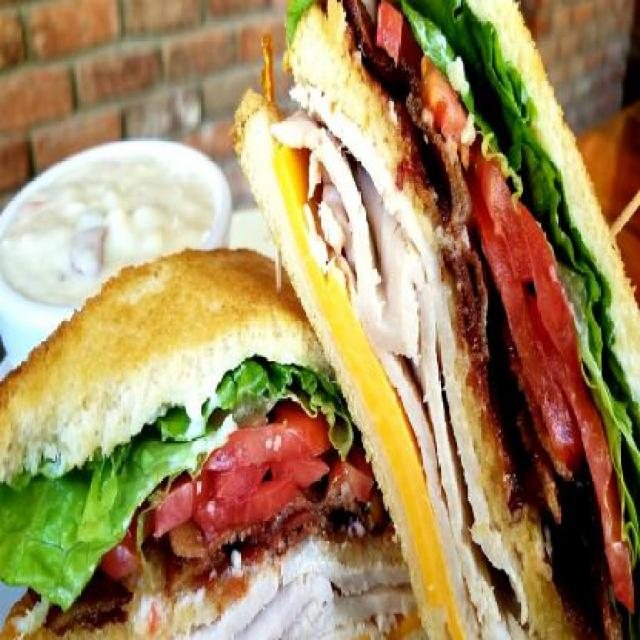clam chowder: (4, 102, 230, 302)
club sandwich: (1, 6, 637, 632)
